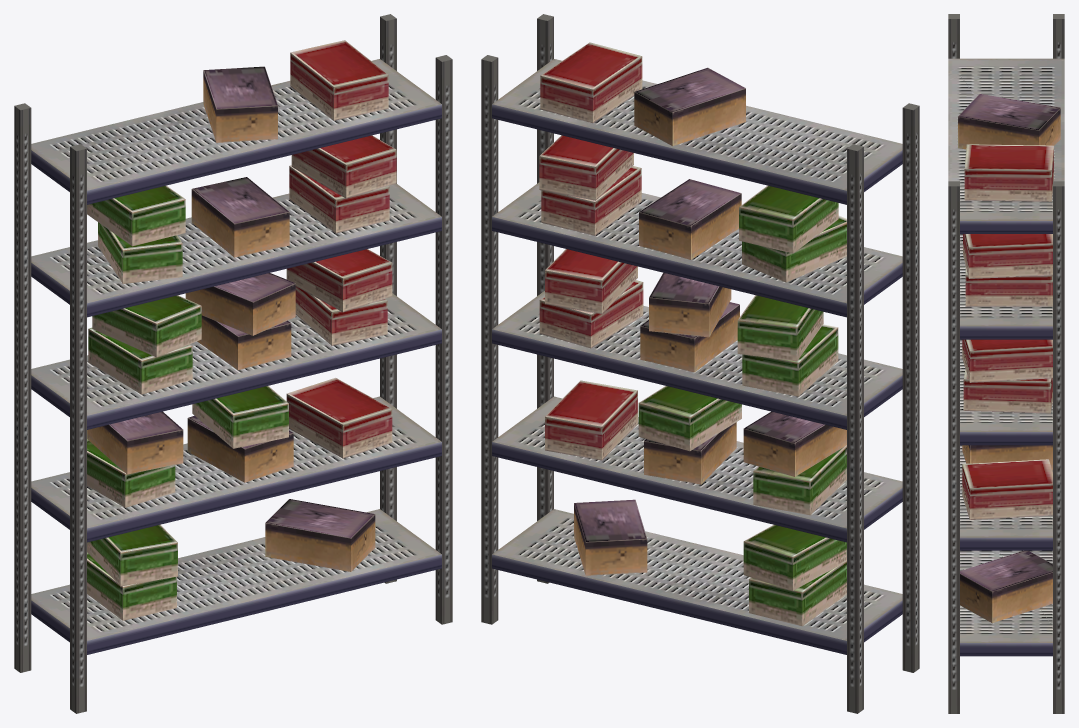
File: metal_shoe_rack.fbx
3 views of the same model, side by side, from view 1: azimuth 30°, elevation 25°; view 2: azimuth 150°, elevation 25°; view 3: azimuth 270°, elevation 25° (orthographic). The views are drawn at different scales.
Parts seen in each view (by area): view 1: mesh_0, mesh_1; view 2: mesh_0, mesh_1; view 3: mesh_0, mesh_1.
Boxes of the visible parts, x1,y1,x2,y2 form: mesh_0: (14,14,452,713); mesh_1: (87,40,396,620); mesh_0: (481,14,919,713); mesh_1: (539,42,846,626); mesh_0: (948,14,1064,713); mesh_1: (958,93,1060,623).
Size of the model in its own units: 140 by 200 by 40.
Materials: 2 (2 with a texture image).
